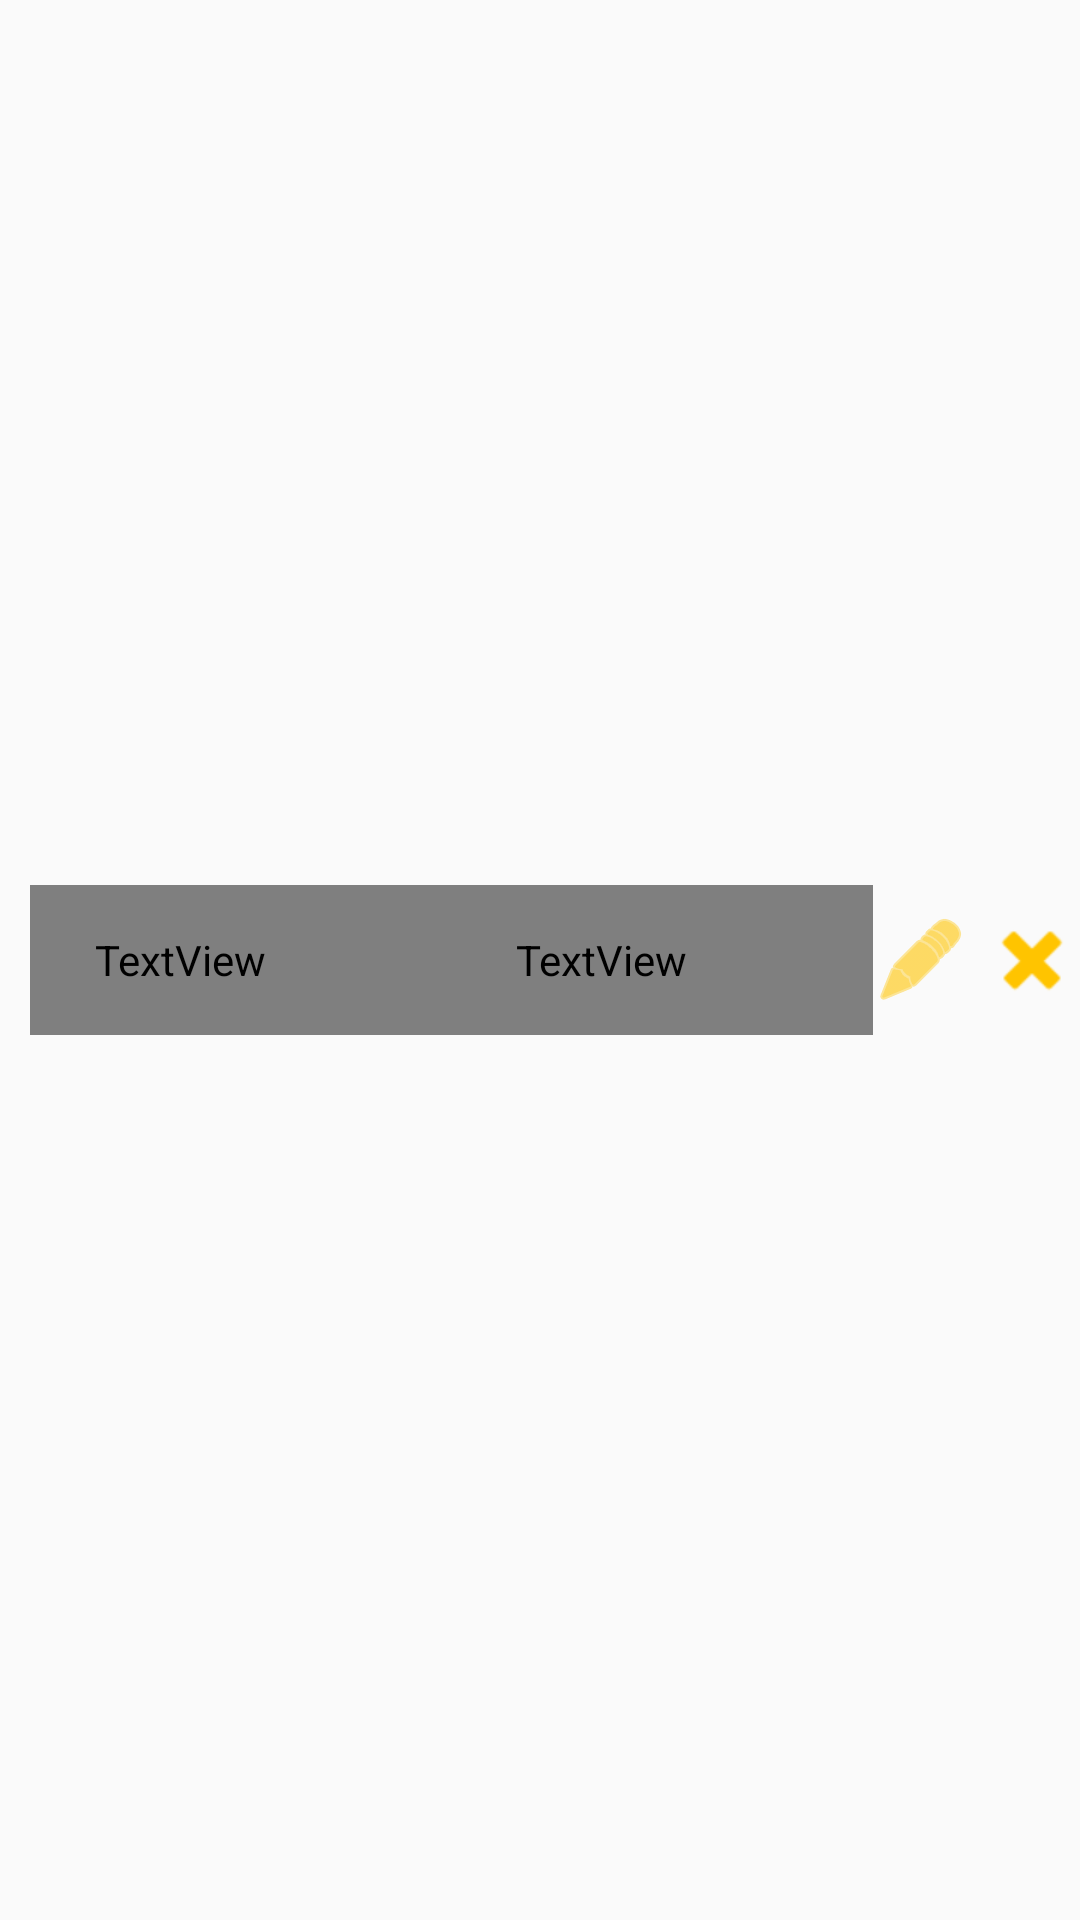

Locate icon controls on the screen. Image size 1080 x 1920, boxes as [x1,y1,x2,y2].
delete: [1001,931,1063,990]
edit: [880,919,961,1000]
